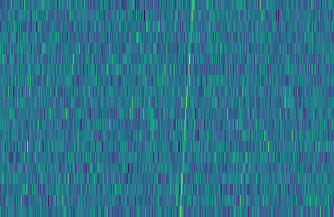signal: (175, 0, 197, 217)
